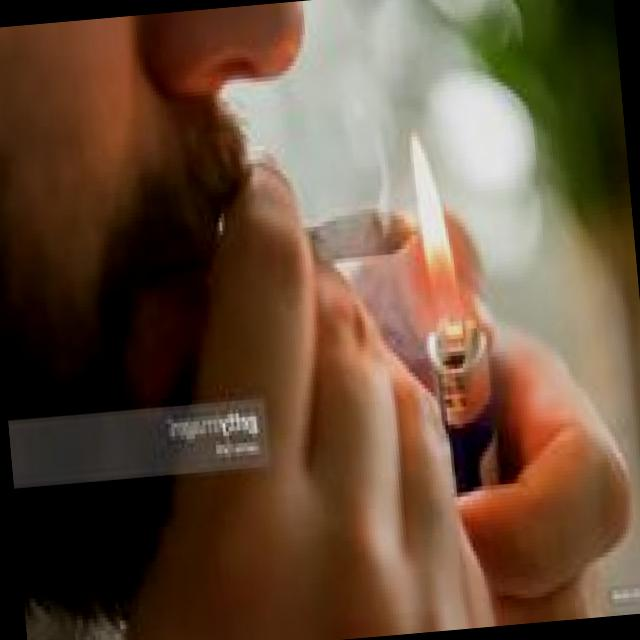smoke: (292, 196, 425, 275)
